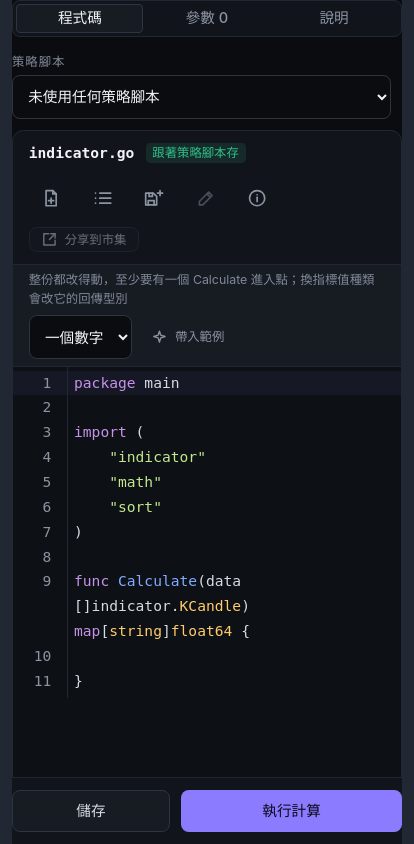
Test case: 策略腳本畫面上的策略腳本：不弄丟寫到一半的東西 › 編輯區還沒動過時直接帶入，不多問
Select "二十根均線" in the dropdown with test id "strategy-script-picker-select" at coordinates (201, 97), box [12,75,391,119]
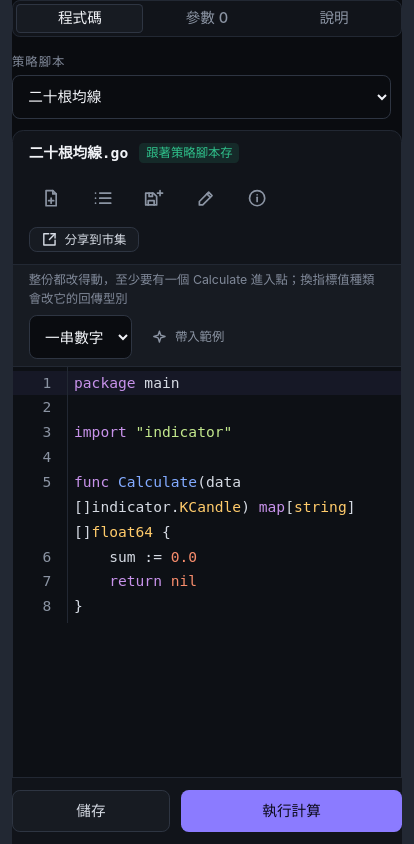
Result: the field with class "cm-content" shows "sum := 0.0" at [68,367,401,623]
